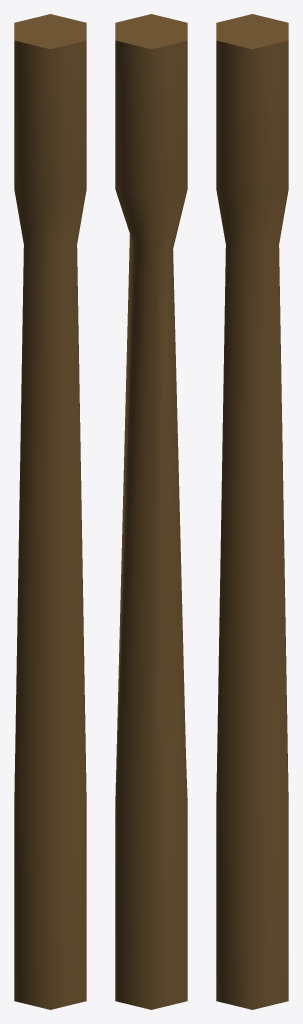
Rendered from tool_handle_2.fbx.
3 views of the same model, side by side, from view 1: azimuth 90°, elevation 25°; view 2: azimuth 210°, elevation 25°; view 3: azimuth 270°, elevation 25° (orthographic).
Visible parts, largest first — view 1: handle_2; view 2: handle_2; view 3: handle_2.
Part boxes in pixels (bbox=[...]): handle_2: bbox=[14, 14, 86, 1009]; handle_2: bbox=[115, 14, 187, 1009]; handle_2: bbox=[216, 14, 288, 1009].
Bounding box in the file's own units: 0.8522 × 10.8 × 0.738.
